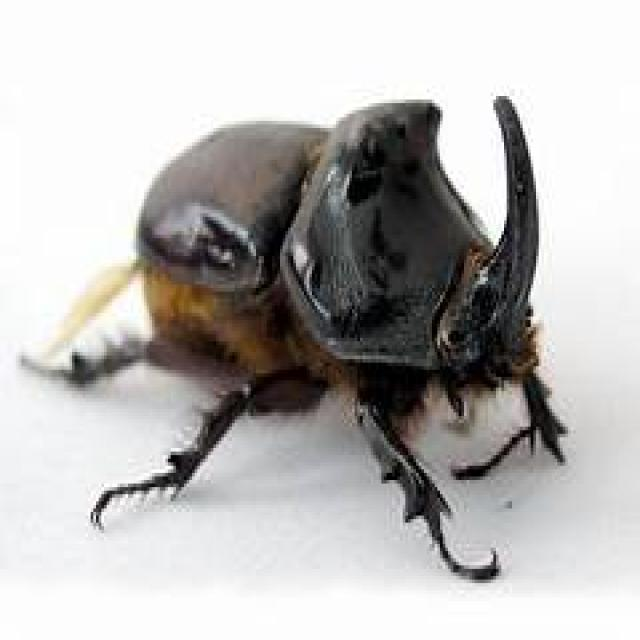Rhino-beetle: (89, 78, 575, 554)
